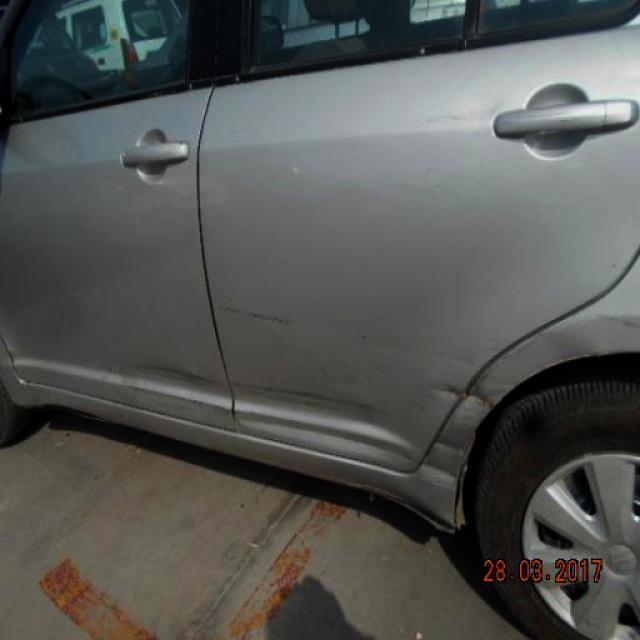car damage: (240, 414, 461, 486), (134, 358, 383, 418), (431, 383, 496, 417), (211, 304, 292, 331), (430, 432, 468, 458)
